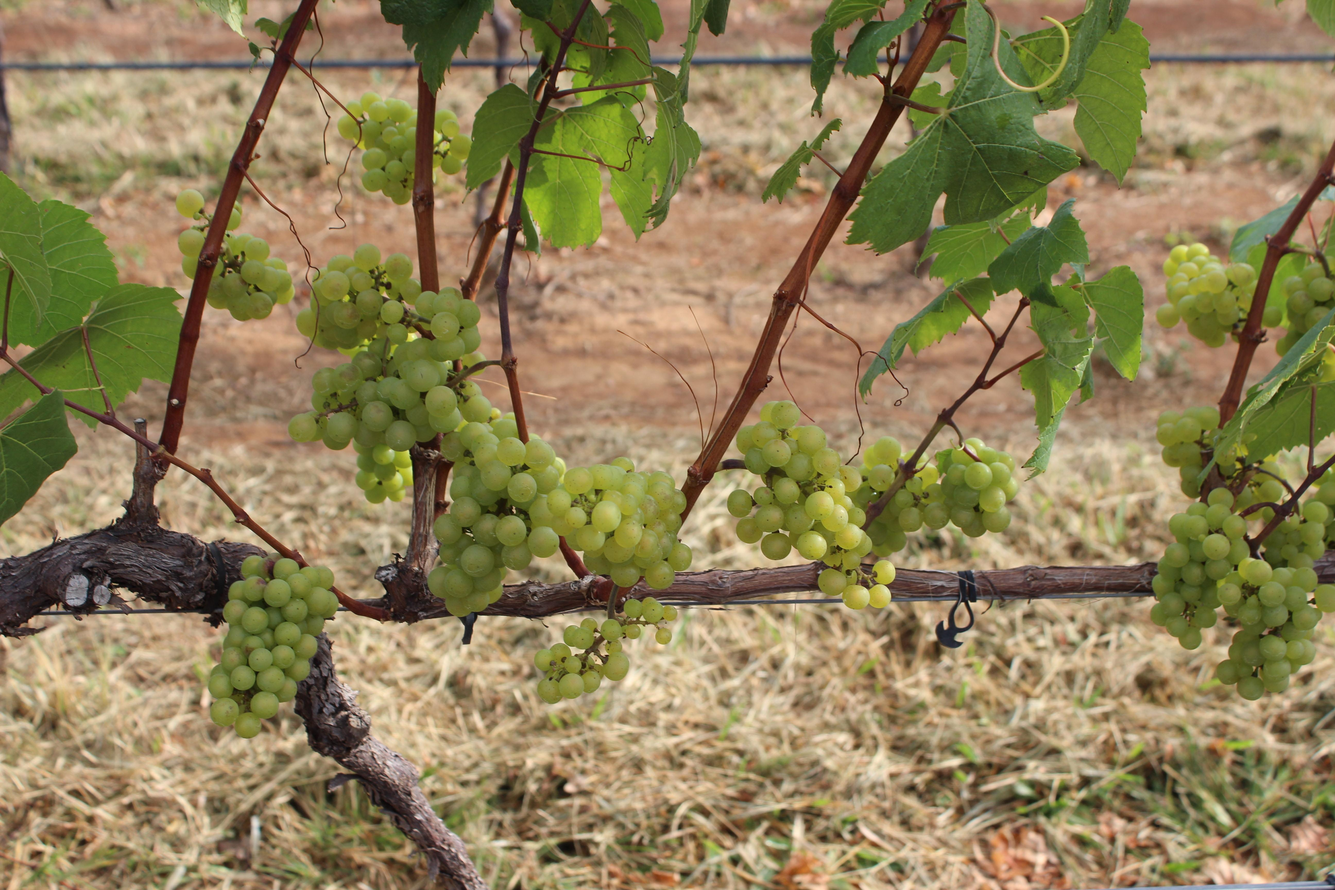leaf: (849, 0, 1078, 253), (19, 284, 181, 411), (1040, 0, 1149, 182), (1215, 309, 1335, 454), (858, 278, 993, 397), (10, 199, 118, 345), (1020, 285, 1093, 440), (0, 390, 76, 523), (381, 0, 492, 90), (988, 199, 1089, 296), (0, 173, 51, 329), (466, 84, 536, 189), (1081, 266, 1144, 380), (924, 213, 1031, 280), (1246, 380, 1335, 457), (761, 118, 841, 202), (844, 0, 929, 76), (1229, 195, 1299, 262), (1015, 28, 1062, 81), (195, 0, 247, 36), (0, 370, 37, 415), (998, 41, 1028, 82), (1306, 0, 1335, 37), (1198, 460, 1213, 478), (78, 414, 95, 425), (0, 280, 10, 288), (1257, 266, 1259, 269), (0, 307, 3, 308), (0, 415, 3, 415)
